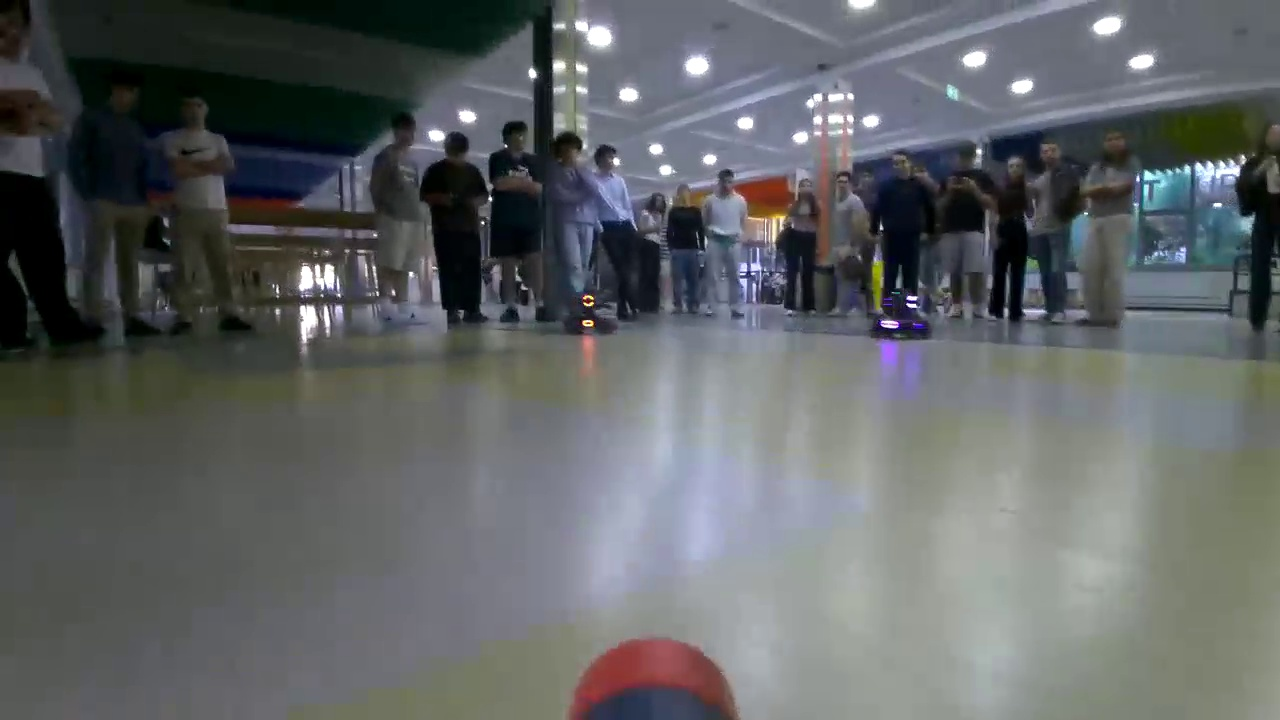robot: (868, 290, 940, 340), (574, 292, 614, 334)
